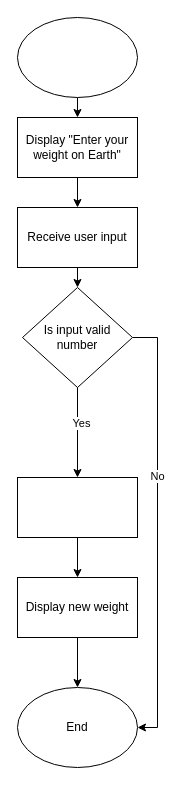
Some shapes in this 183 by 785 pixel diagram are drawn without their labels. Each missing label, with the centre of its shape:
"Calculate weight" belongs at point 77,507.
"START" belongs at point 77,57.
